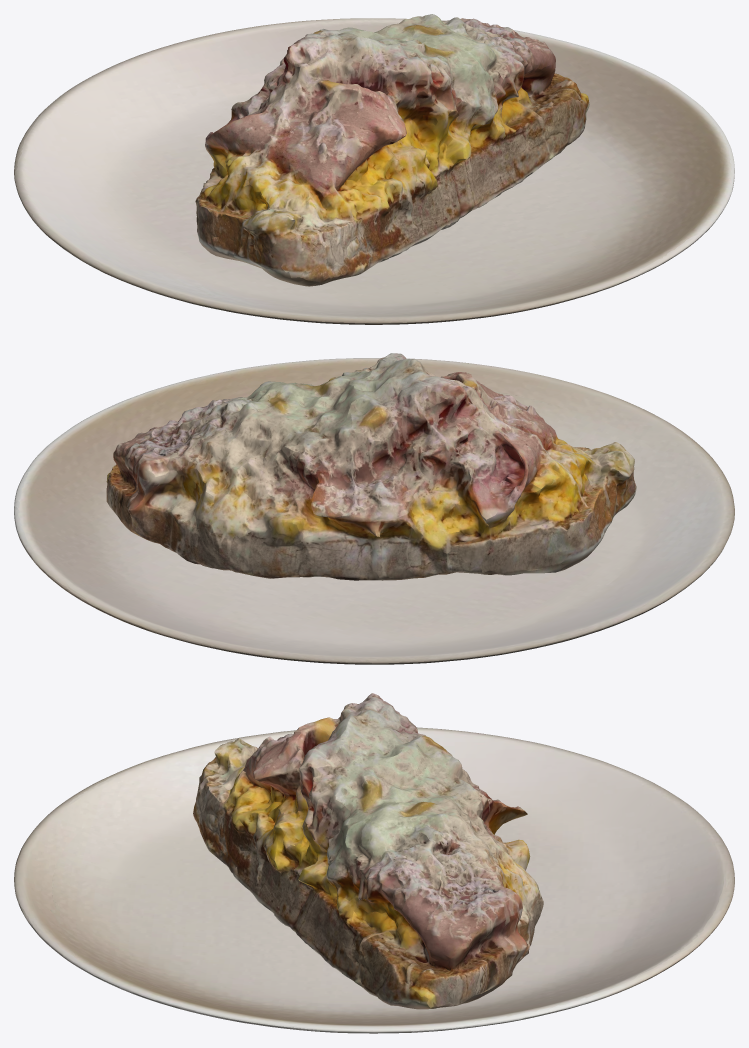
File: bruschta.with.Mortadela.asli.002.glb
The picture shows the model from 3 angles, top to bottom: view 1: azimuth 30°, elevation 25°; view 2: azimuth 150°, elevation 25°; view 3: azimuth 270°, elevation 25°; orthographic projection.
Visible parts, largest first — view 1: /Root/Scenes/Scene/Object_37/Object_41/Object_42/Submesh_0, /Root/Scenes/Scene/Object_37/Object_38/Submesh_0; view 2: /Root/Scenes/Scene/Object_37/Object_41/Object_42/Submesh_0, /Root/Scenes/Scene/Object_37/Object_38/Submesh_0; view 3: /Root/Scenes/Scene/Object_37/Object_41/Object_42/Submesh_0, /Root/Scenes/Scene/Object_37/Object_38/Submesh_0.
Boxes of the visible parts, x1,y1,x2,y2 form: /Root/Scenes/Scene/Object_37/Object_41/Object_42/Submesh_0: (14, 18, 734, 324); /Root/Scenes/Scene/Object_37/Object_38/Submesh_0: (195, 14, 589, 286); /Root/Scenes/Scene/Object_37/Object_41/Object_42/Submesh_0: (14, 358, 734, 664); /Root/Scenes/Scene/Object_37/Object_38/Submesh_0: (106, 353, 636, 580); /Root/Scenes/Scene/Object_37/Object_41/Object_42/Submesh_0: (14, 727, 734, 1033); /Root/Scenes/Scene/Object_37/Object_38/Submesh_0: (193, 693, 543, 1009).
Size of the model in its own units: 0.2715 by 0.0749 by 0.2715.
2 materials, 2 textured.
